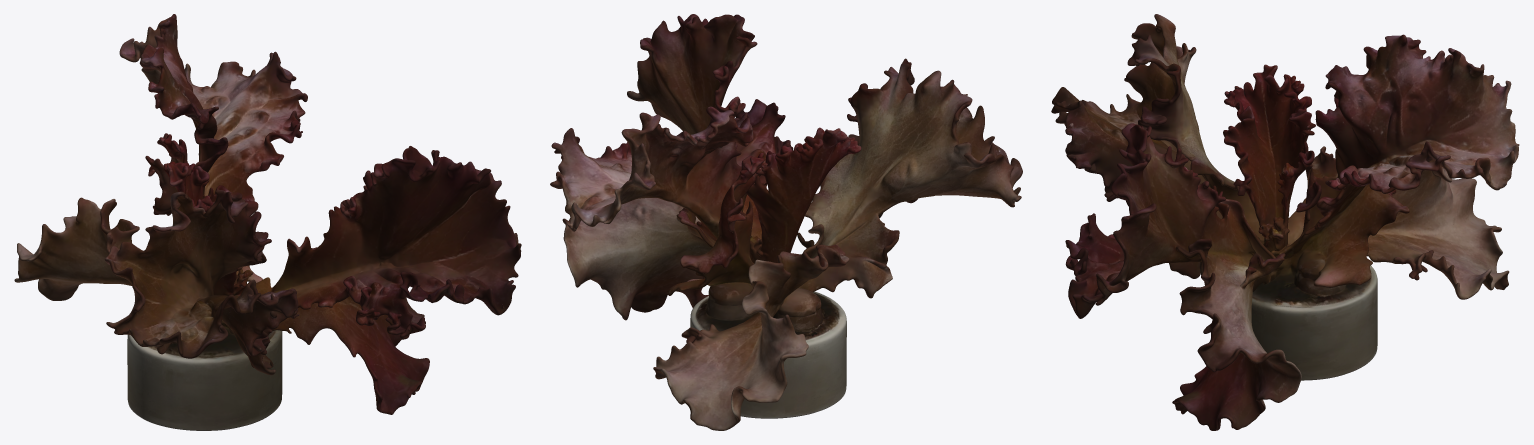
Rendered from orbital_heading.glb.
The picture shows the model from 3 angles, left to right: view 1: azimuth 30°, elevation 25°; view 2: azimuth 150°, elevation 25°; view 3: azimuth 270°, elevation 25°; orthographic projection.
Parts seen in each view (by area): view 1: tripo_node_a66feac0-1751-4f5d-9742-d897906ea175; view 2: tripo_node_a66feac0-1751-4f5d-9742-d897906ea175; view 3: tripo_node_a66feac0-1751-4f5d-9742-d897906ea175.
Boxes of the visible parts, bbox=[...] form: tripo_node_a66feac0-1751-4f5d-9742-d897906ea175: bbox=[14, 14, 521, 430]; tripo_node_a66feac0-1751-4f5d-9742-d897906ea175: bbox=[550, 14, 1022, 430]; tripo_node_a66feac0-1751-4f5d-9742-d897906ea175: bbox=[1051, 14, 1519, 430].
Size of the model in its own units: 0.9933 by 0.761 by 1.
Materials: 1 (1 with a texture image).
